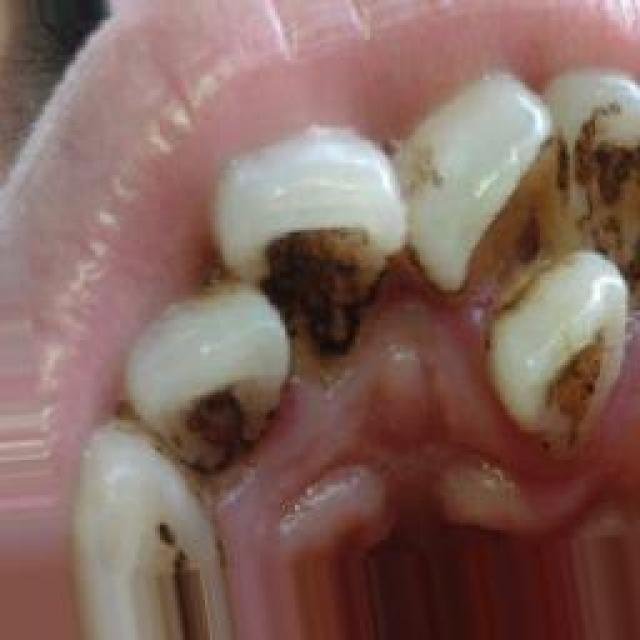caries: (283, 237, 366, 355), (470, 170, 543, 293), (572, 123, 630, 236), (190, 390, 263, 455), (540, 343, 600, 416)
